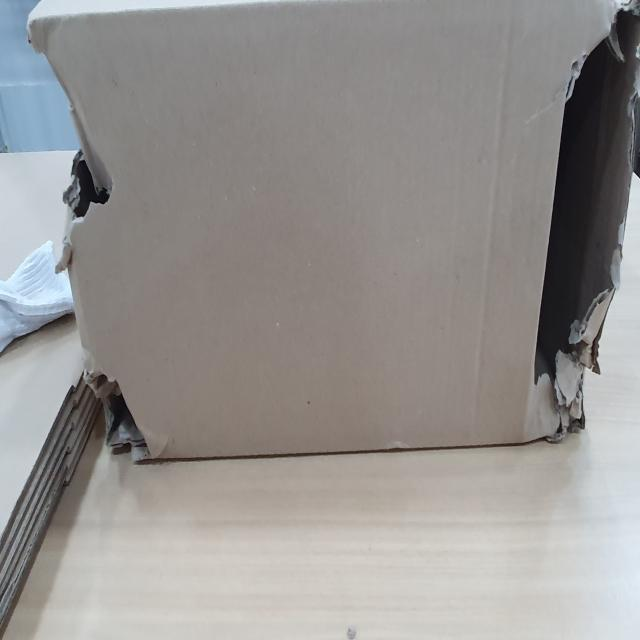hole: (536, 0, 638, 388), (88, 363, 155, 455), (63, 148, 121, 243)
